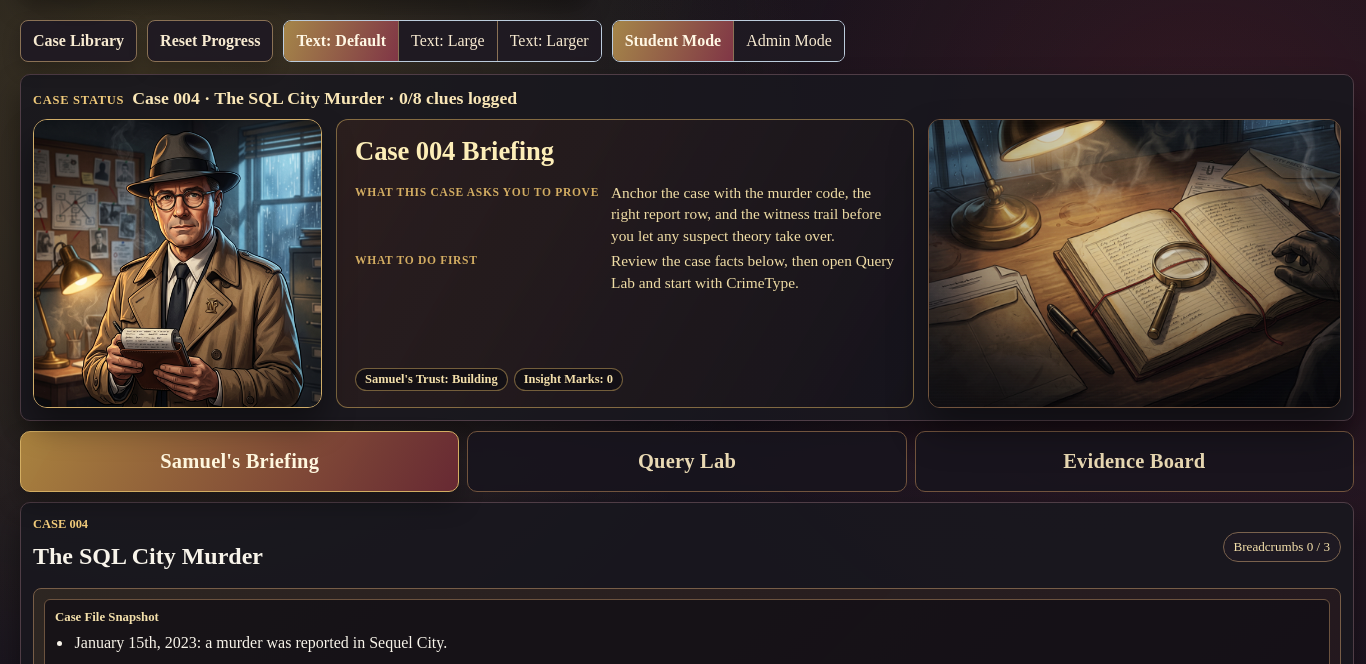
Test: App › returns to the case library from Student Mode without relying on refresh
expect the button "Query Lab" is shown: met, box [467,431,907,492]
What coordinates should you click on to do the following:
click the button "Case Library"
I would click on:
 (79, 41)
Its box is [20,20,137,62].
(page scrolled)
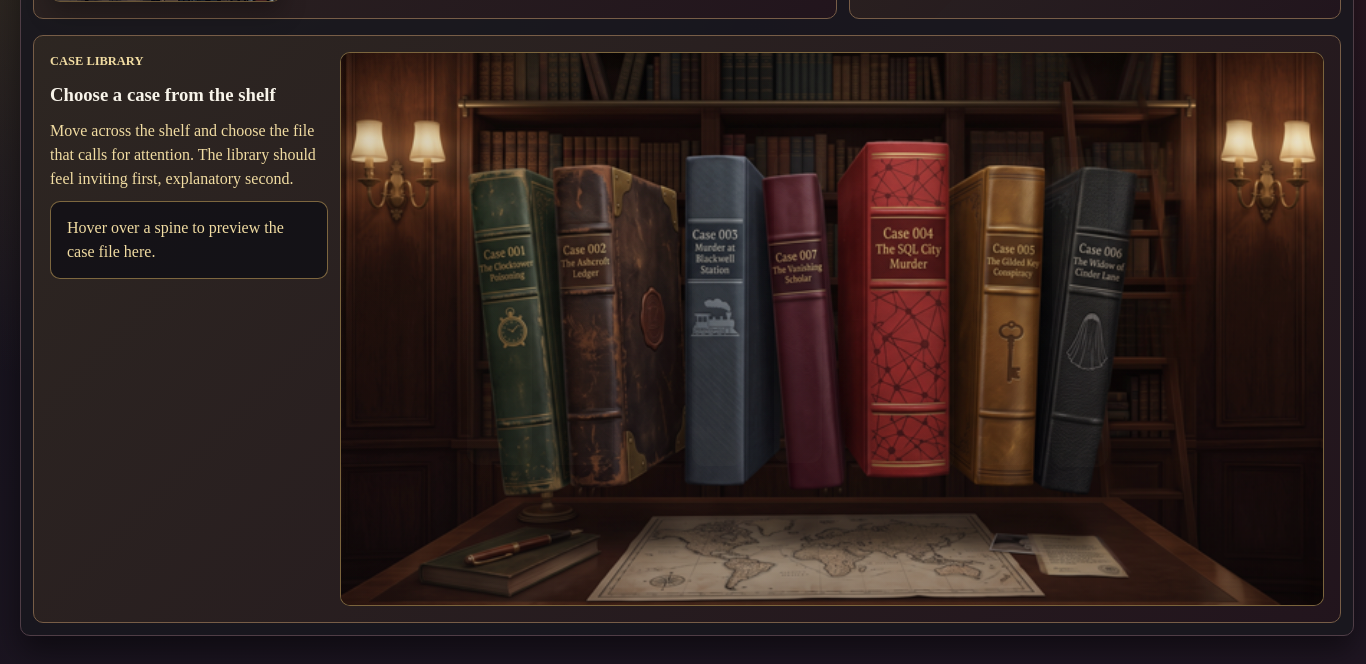
expect the button named "Select Case 004: The SQL City Murder" is shown: met, box [867,145,954,470]
expect the text "Query Lab" is gone: met
expect the button "Reset Progress" is gone: met
